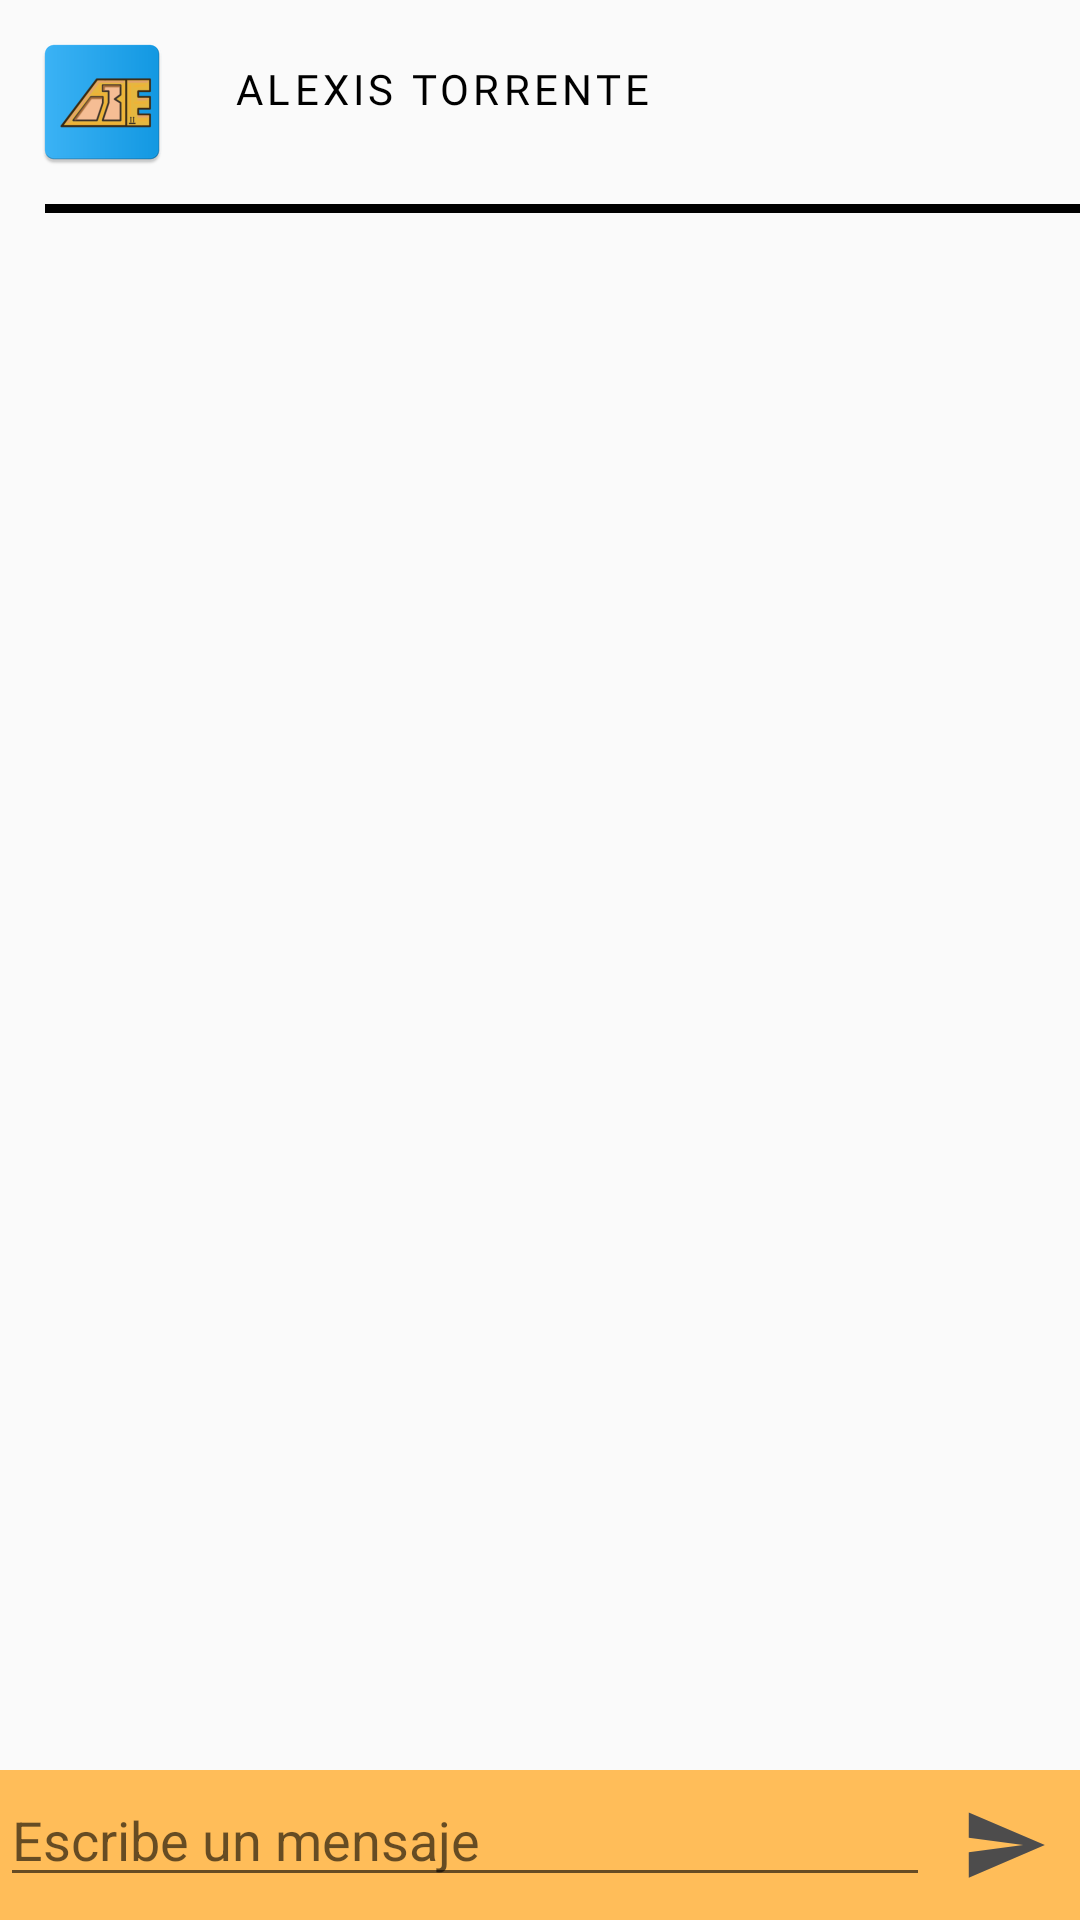

Icons on this 1080px x 1920px Android screen, each with its box as (x1, y1, x2, y2):
enviar: (968, 1812, 1045, 1878)
